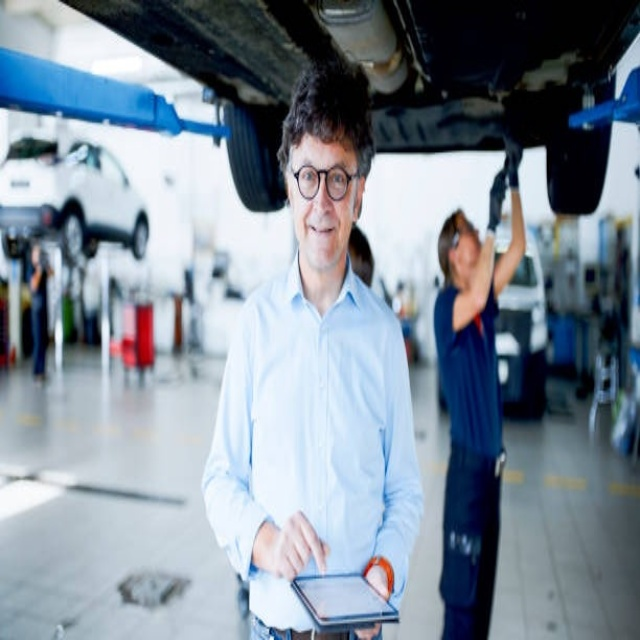Gafas: (287, 154, 360, 199)
Guantes: (484, 164, 507, 236), (502, 132, 528, 188)
Sin_guantes: (273, 504, 333, 584)
Sin_mascara: (301, 216, 341, 253)
